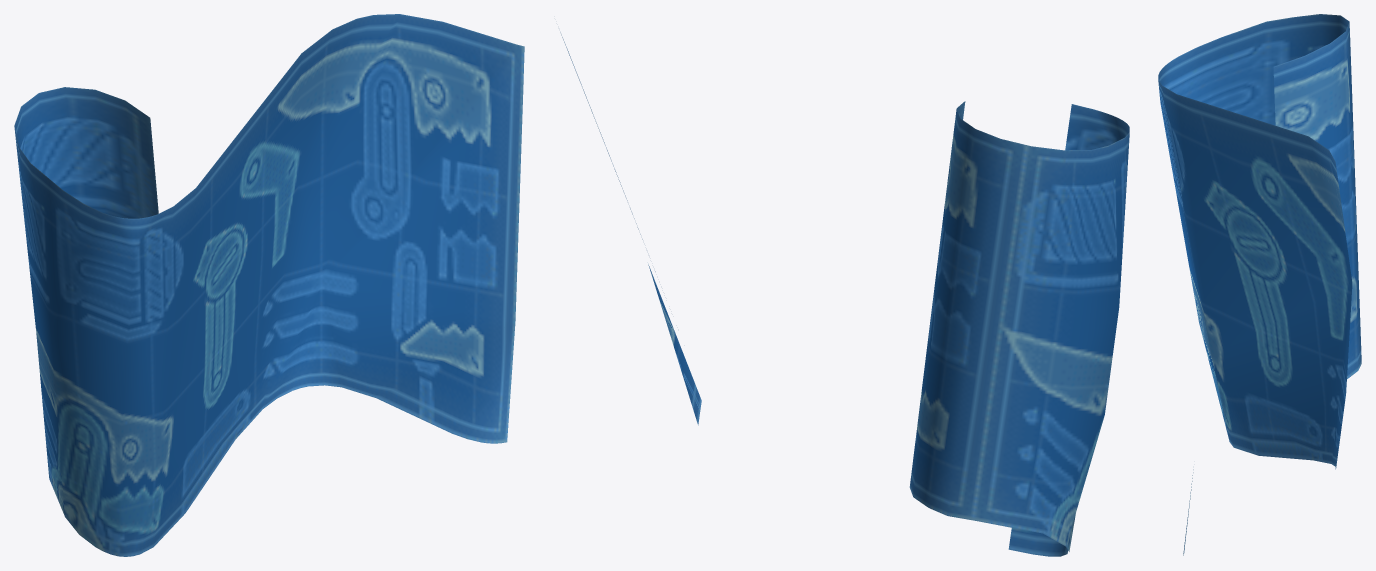
File: part_roarmulus_x1_01.glb
3 renders of one model, left to right at view 1: azimuth 30°, elevation 25°; view 2: azimuth 150°, elevation 25°; view 3: azimuth 270°, elevation 25°, orthographic. The views are drawn at different scales.
Parts seen in each view (by area): view 1: boss.part_roarmulus_x1_01-Mesh[0], boss.part_roarmulus_x1_01-Mesh[1]; view 2: boss.part_roarmulus_x1_01-Mesh[0], boss.part_roarmulus_x1_01-Mesh[1]; view 3: boss.part_roarmulus_x1_01-Mesh[0], boss.part_roarmulus_x1_01-Mesh[1].
Boxes of the visible parts, bbox=[...] form: boss.part_roarmulus_x1_01-Mesh[0]: bbox=[14, 14, 524, 556]; boss.part_roarmulus_x1_01-Mesh[1]: bbox=[14, 87, 158, 218]; boss.part_roarmulus_x1_01-Mesh[0]: bbox=[560, 32, 1129, 551]; boss.part_roarmulus_x1_01-Mesh[1]: bbox=[956, 101, 1129, 556]; boss.part_roarmulus_x1_01-Mesh[0]: bbox=[1158, 22, 1361, 555]; boss.part_roarmulus_x1_01-Mesh[1]: bbox=[1158, 14, 1349, 437].
Size of the model in its own units: 0.9598 by 0.7956 by 0.3612.
1 material, 1 textured.
